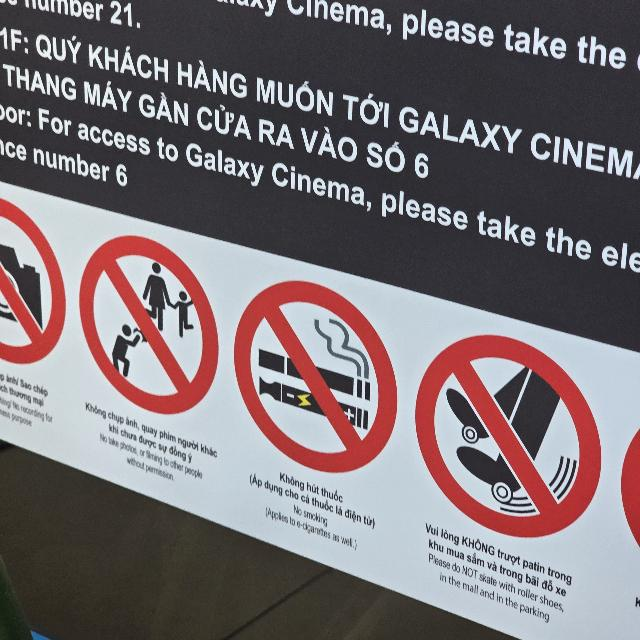cam hut thuoc: (234, 281, 397, 472)
